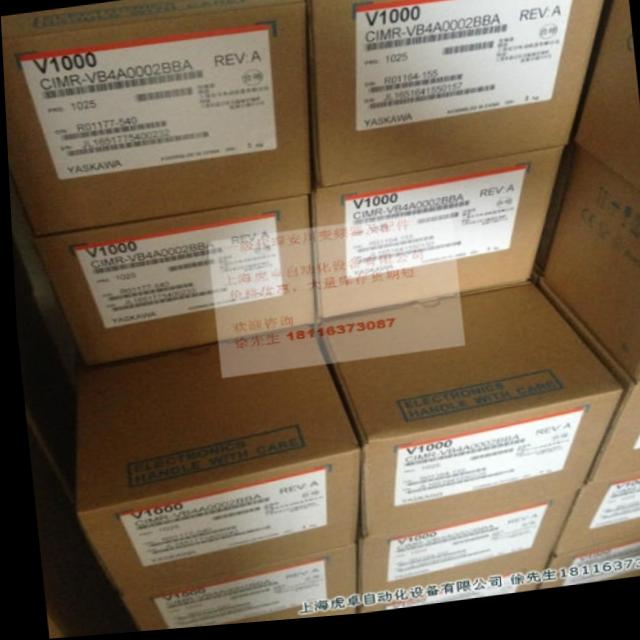box: (313, 290, 622, 545), (73, 329, 353, 600), (1, 0, 309, 237), (305, 0, 607, 192), (28, 198, 315, 371), (307, 155, 561, 327), (529, 159, 640, 395), (351, 501, 575, 617), (111, 551, 351, 633), (569, 0, 640, 204), (543, 483, 640, 572), (355, 573, 543, 616), (580, 395, 640, 495), (534, 549, 640, 597)
